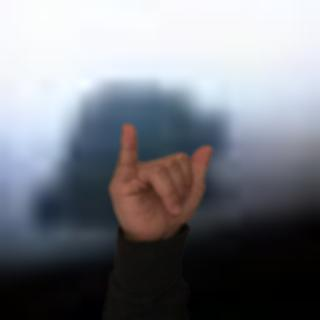HAVE: (97, 114, 218, 243)
